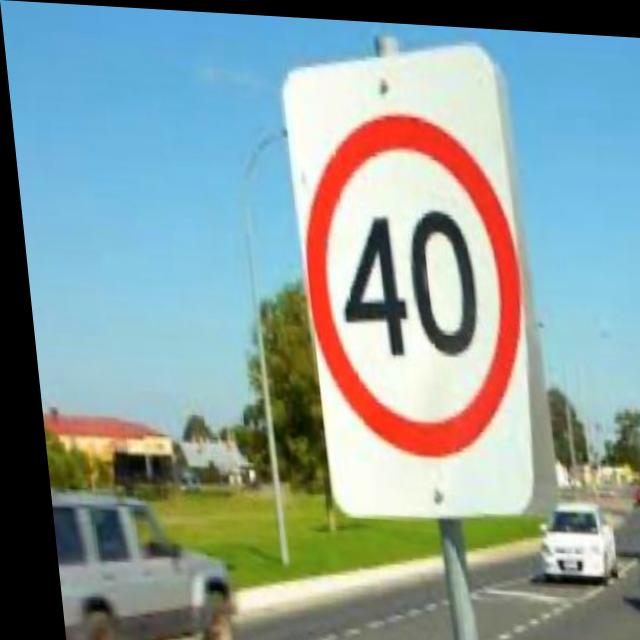limit40: (278, 94, 535, 466)
